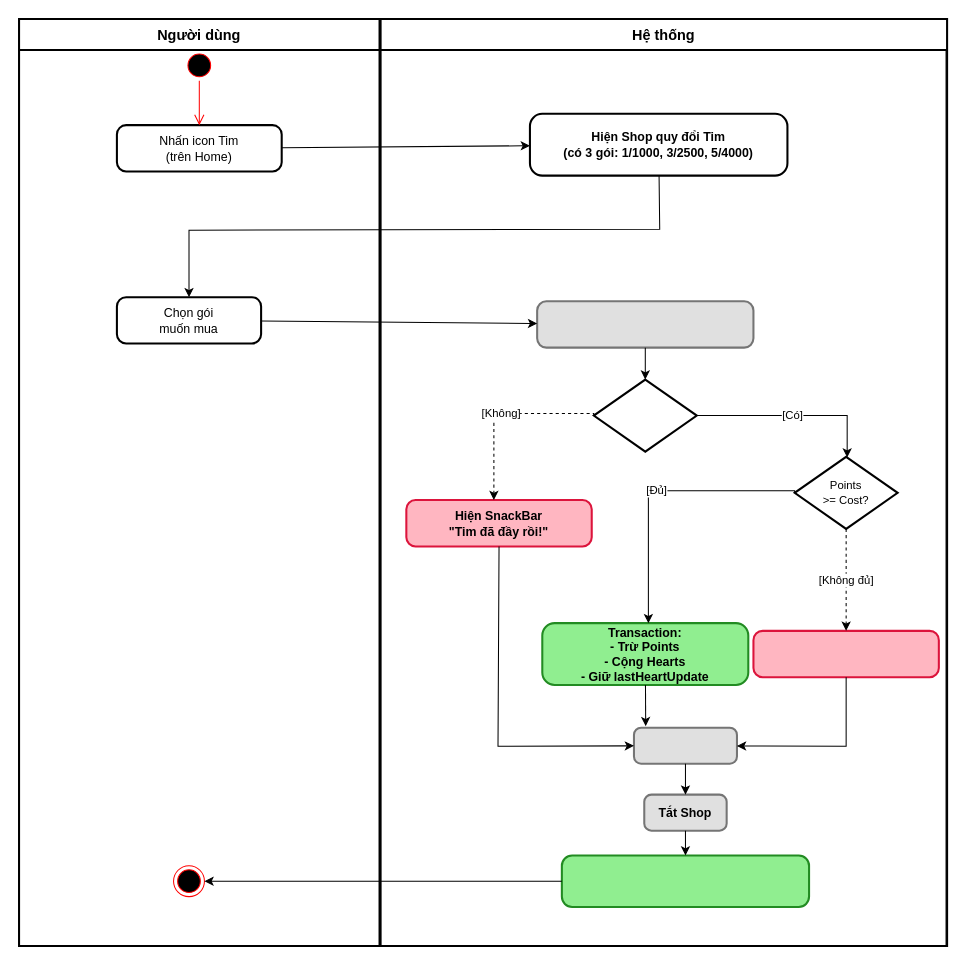
Some shapes in this 965 by 964 pixel diagram are drawn without their labels. The centre of each missing label's shape, as x and y in pixels:
Hearts < 5?: point 644,415
Hiện Dialog "Thành công! Bạn đã nhận được X tim": point 685,880
Hiện Loading: point 645,324
Hiện SnackBar "Không đủ điểm!": point 845,653
Tắt Loading: point 684,745
